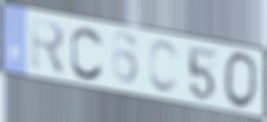5: (186, 43, 219, 102)
6: (111, 29, 141, 92)
C: (69, 25, 106, 83), (146, 38, 182, 96)
O: (222, 50, 260, 112)
R: (29, 15, 67, 79)
